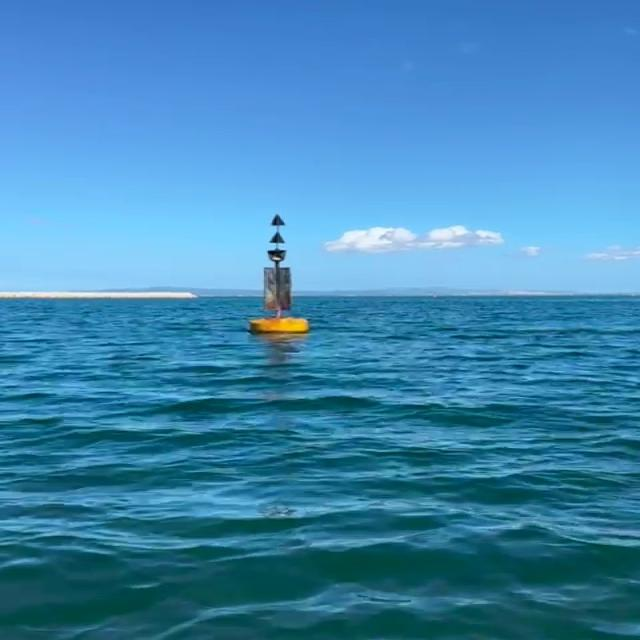marque: (249, 215, 312, 334)
